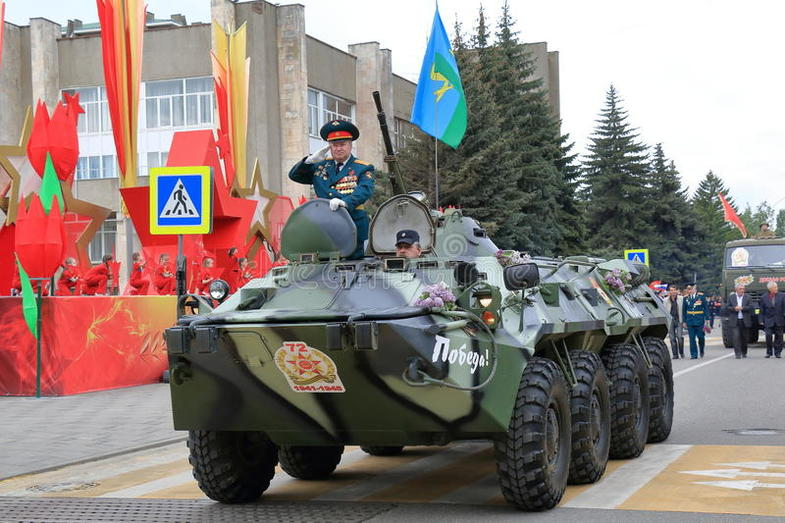btr: (172, 216, 679, 488)
